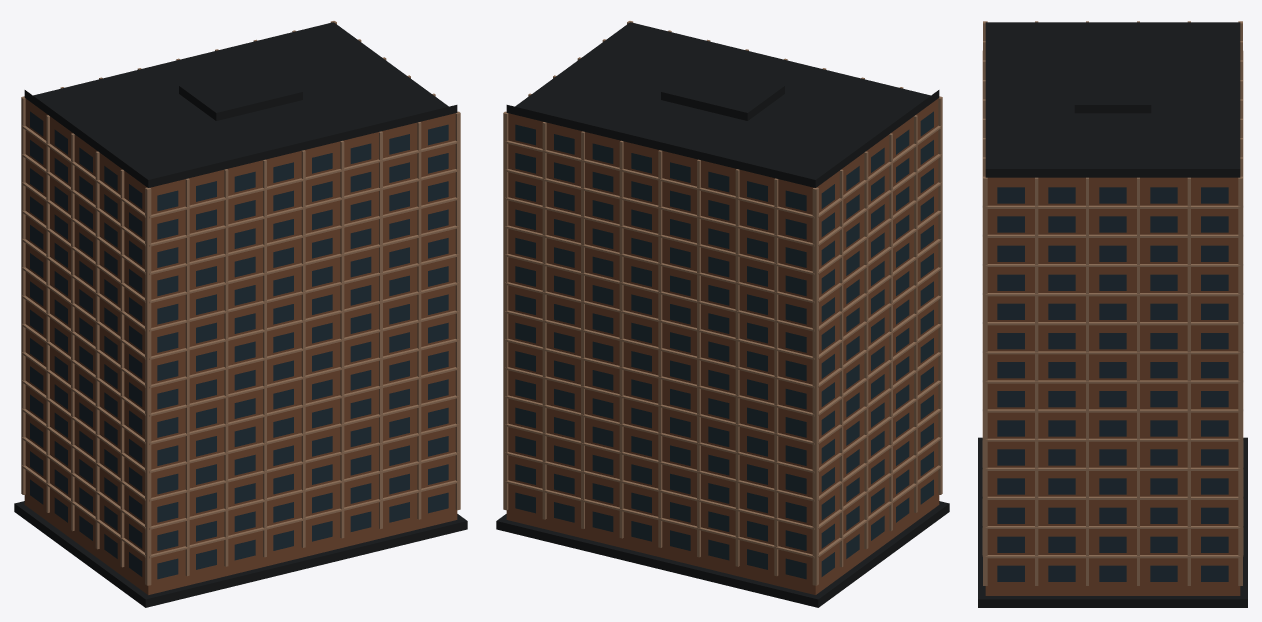
Rendered from office-08.glb.
3 views of the same model, side by side, from view 1: azimuth 30°, elevation 25°; view 2: azimuth 150°, elevation 25°; view 3: azimuth 270°, elevation 25° (orthographic). The views are drawn at different scales.
Visible parts, largest first — view 1: brick-midrise; view 2: brick-midrise; view 3: brick-midrise.
Boxes of the visible parts, bbox=[...] form: brick-midrise: bbox=[14, 21, 467, 607]; brick-midrise: bbox=[496, 21, 949, 607]; brick-midrise: bbox=[978, 21, 1247, 607].
Size of the model in its own units: 45.5 by 58.34 by 32.11.
